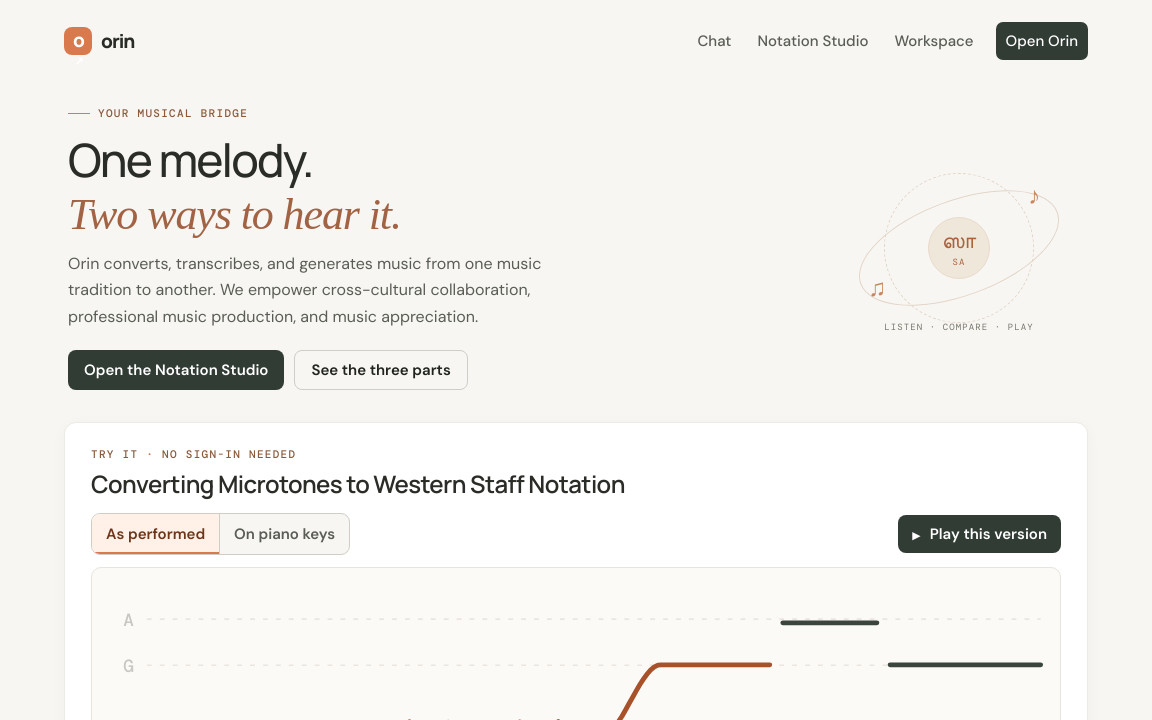
Test case: home page › shows what the piano loses when the switch is flipped, and renames the notes
Click the button "On piano keys".
click(284, 534)  # box [219, 514, 349, 554]
(page scrolled)
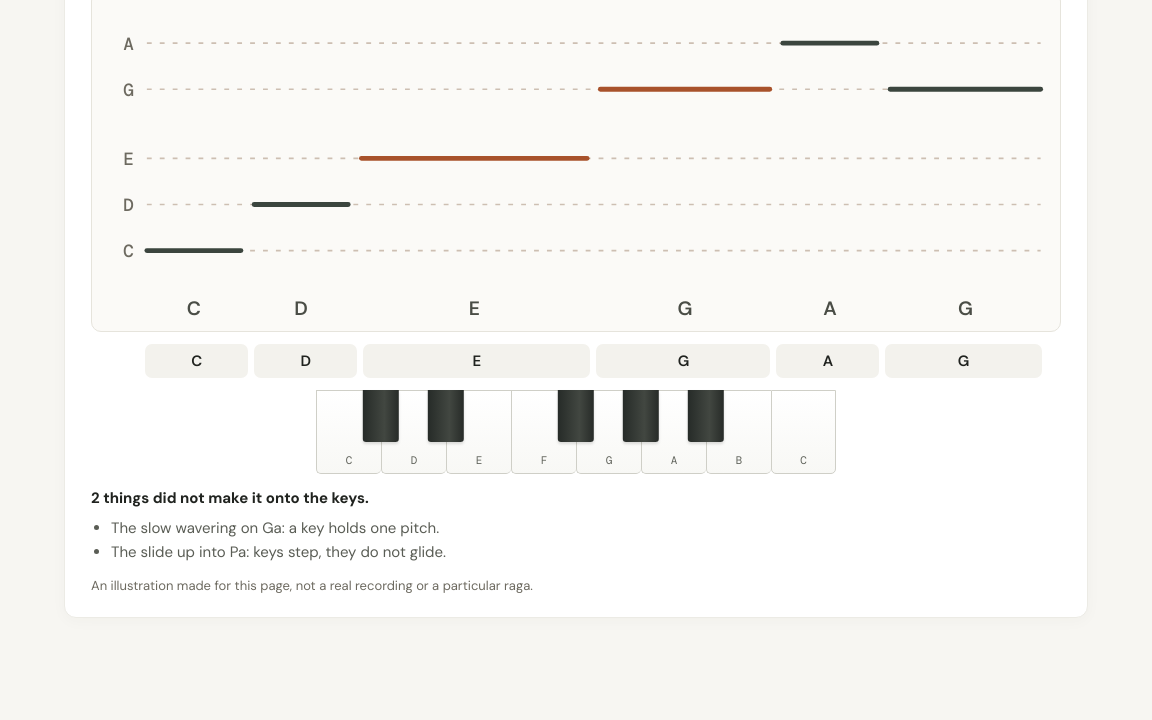
Now the text "2 things did not make it onto the keys." is shown, box [91, 488, 369, 508]
Now the list item "The slow wavering on Ga: a key holds one pitch." is shown, box [111, 518, 439, 538]
Now the list item "The slide up into Pa: keys step, they do not glide." is shown, box [111, 542, 446, 562]
